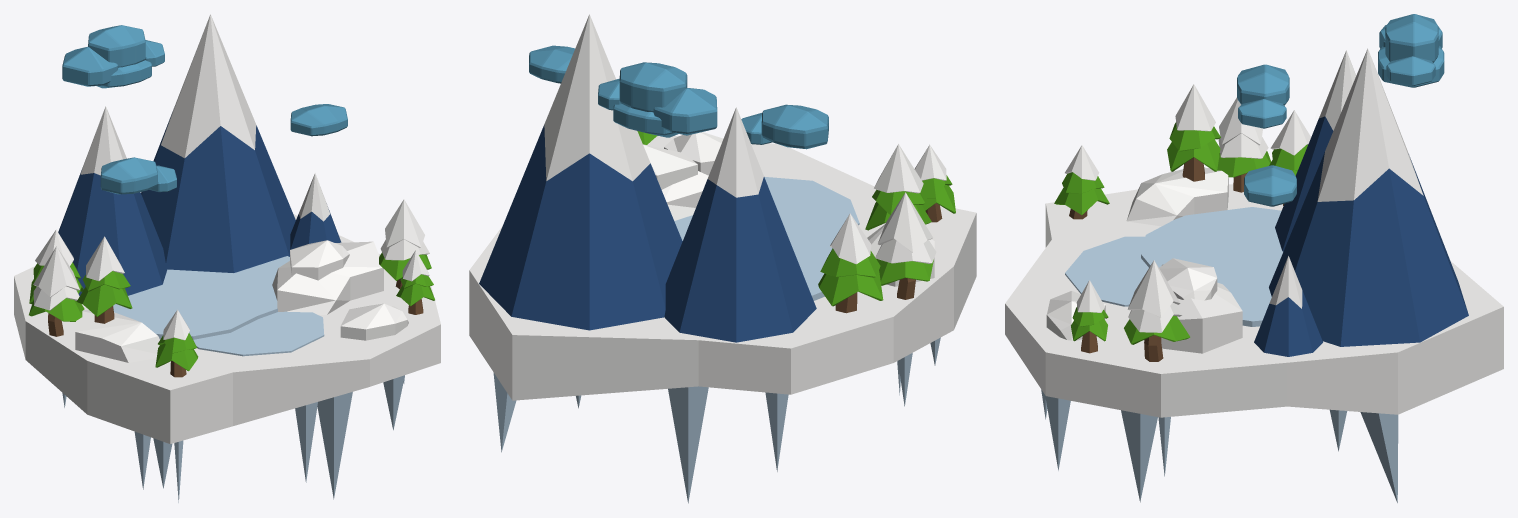
The model's file is Island_19.glb.
3 renders of one model, left to right at view 1: azimuth 30°, elevation 25°; view 2: azimuth 150°, elevation 25°; view 3: azimuth 270°, elevation 25°, orthographic. The views are drawn at different scales.
Visible parts, largest first — view 1: Island_19, Island_19_Base; view 2: Island_19, Island_19_Base; view 3: Island_19, Island_19_Base.
Part boxes in pixels (bbox=[...]): Island_19: bbox=[29, 14, 434, 377]; Island_19_Base: bbox=[14, 214, 440, 502]; Island_19: bbox=[479, 14, 955, 342]; Island_19_Base: bbox=[469, 135, 976, 503]; Island_19: bbox=[1046, 14, 1468, 361]; Island_19_Base: bbox=[1005, 184, 1503, 502].
Bounding box in the file's own units: 26.68 × 26.98 × 28.32.
Materials: 1 (1 with a texture image).
